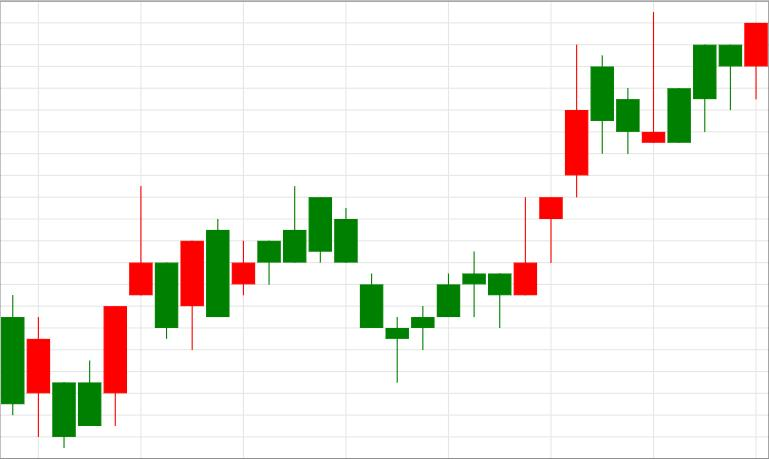shooting_star_fall: (386, 196, 537, 382), (53, 186, 152, 448)
